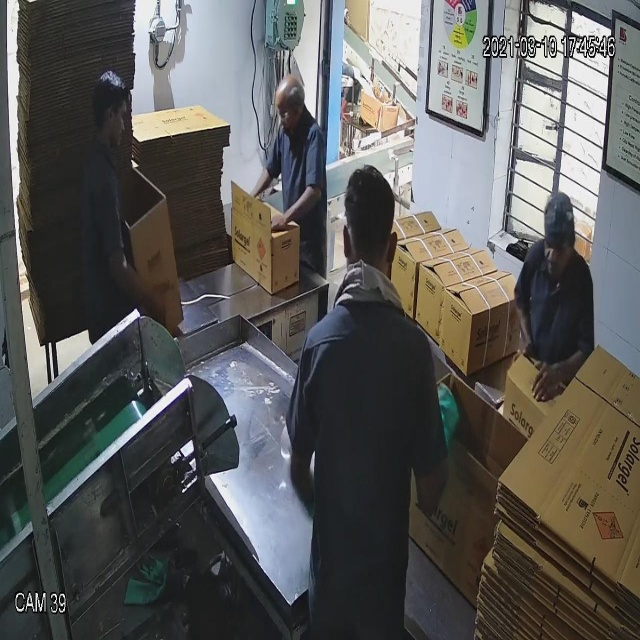Sin_guantes: (108, 235, 166, 332), (534, 333, 586, 418), (268, 187, 326, 242), (241, 154, 282, 215)
